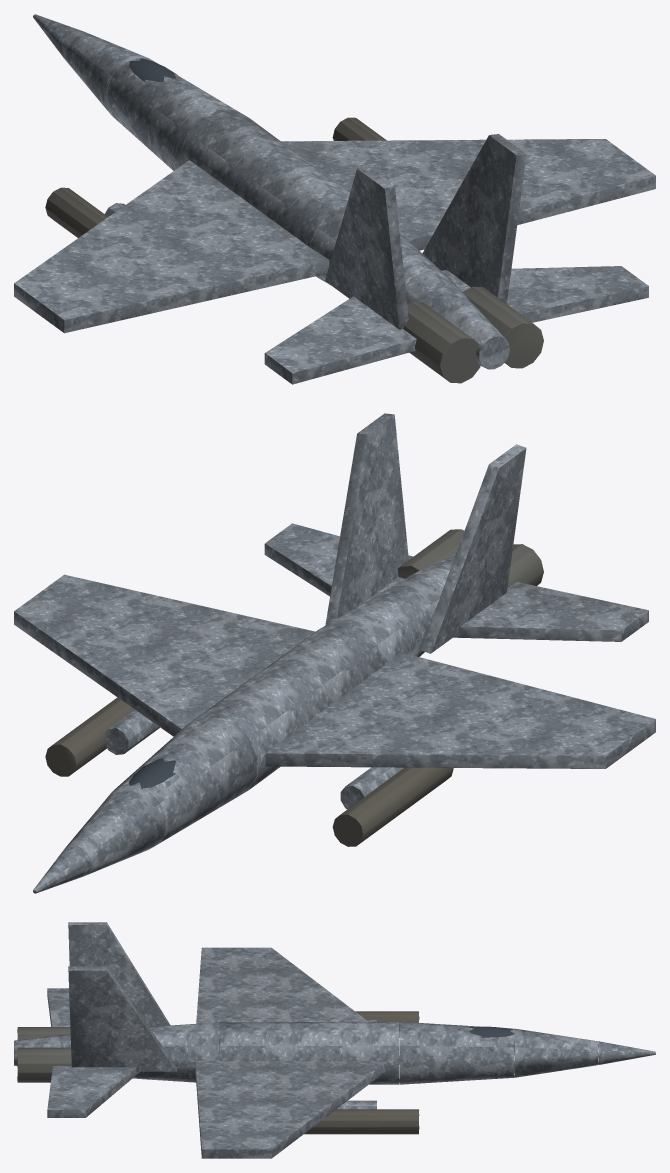
Rendered from air_e2_us_sead_LOD1.glb.
3 renders of one model, top to bottom at view 1: azimuth 30°, elevation 25°; view 2: azimuth 150°, elevation 25°; view 3: azimuth 270°, elevation 25°, orthographic. The views are drawn at different scales.
Visible parts, largest first — view 1: air_e2_us_sead_LOD1_body, air_e2_us_sead_LOD1_gun, air_e2_us_sead_LOD1_deck, air_e2_us_sead_LOD1_glass; view 2: air_e2_us_sead_LOD1_body, air_e2_us_sead_LOD1_deck, air_e2_us_sead_LOD1_gun, air_e2_us_sead_LOD1_glass; view 3: air_e2_us_sead_LOD1_body, air_e2_us_sead_LOD1_deck, air_e2_us_sead_LOD1_gun, air_e2_us_sead_LOD1_glass.
Boxes of the visible parts, left/top/right/bottom form: air_e2_us_sead_LOD1_body: left=14, top=14, right=655, bottom=384; air_e2_us_sead_LOD1_gun: left=403, top=286, right=543, bottom=383; air_e2_us_sead_LOD1_deck: left=45, top=117, right=386, bottom=237; air_e2_us_sead_LOD1_glass: left=129, top=58, right=175, bottom=82; air_e2_us_sead_LOD1_body: left=14, top=413, right=655, bottom=893; air_e2_us_sead_LOD1_deck: left=45, top=697, right=453, bottom=846; air_e2_us_sead_LOD1_gun: left=397, top=529, right=543, bottom=588; air_e2_us_sead_LOD1_glass: left=129, top=758, right=175, bottom=788; air_e2_us_sead_LOD1_body: left=14, top=922, right=655, bottom=1158; air_e2_us_sead_LOD1_deck: left=304, top=1011, right=419, bottom=1134; air_e2_us_sead_LOD1_gun: left=17, top=1027, right=71, bottom=1082; air_e2_us_sead_LOD1_glass: left=469, top=1026, right=514, bottom=1037.
Size of the model in its own units: 13.6 by 4.37 by 18.3.
Materials: 4 (1 with a texture image).
